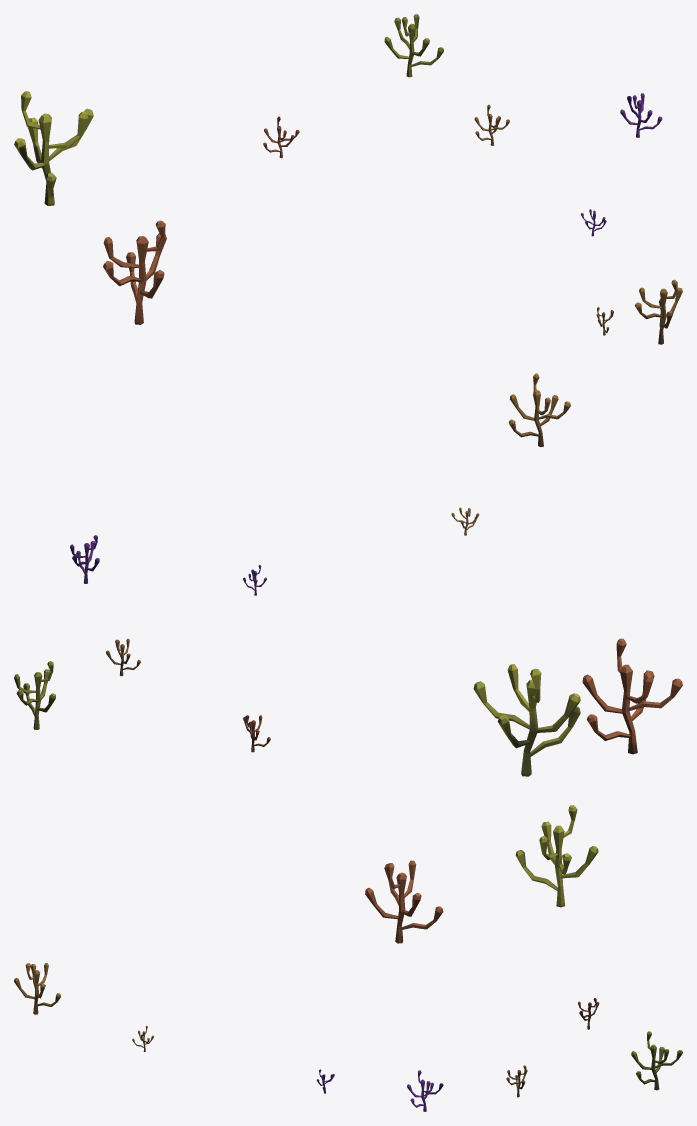
File: Plant_03.FBX
3 renders of one model, top to bottom at view 1: azimuth 30°, elevation 25°; view 2: azimuth 150°, elevation 25°; view 3: azimuth 270°, elevation 25°, orthographic. The views are drawn at different scales.
Parts seen in each view (by area): view 1: Plant_03; view 2: Plant_03; view 3: Plant_03.
Boxes of the visible parts, x1=… form: Plant_03: x1=14, y1=14, x2=682, y2=344; Plant_03: x1=14, y1=373, x2=682, y2=776; Plant_03: x1=14, y1=805, x2=682, y2=1111.
Size of the model in its own units: 20.6 by 5.44 by 24.88.
